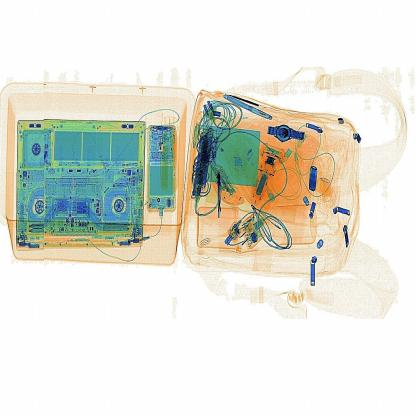knife: (211, 160, 234, 226)
